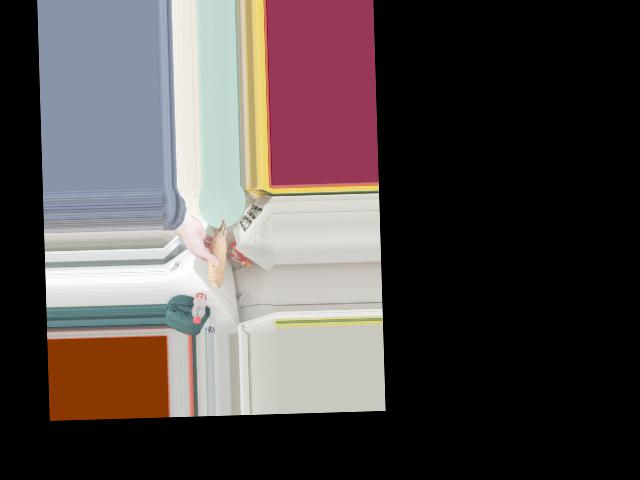sweet_potato: (207, 218, 228, 284)
